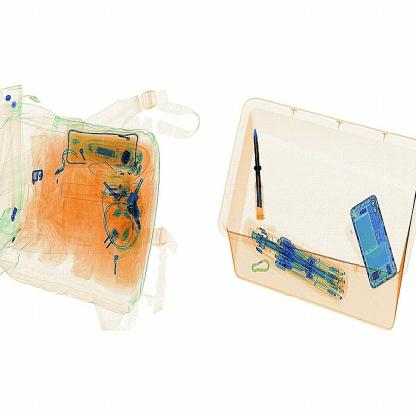gun: (244, 118, 272, 222)
